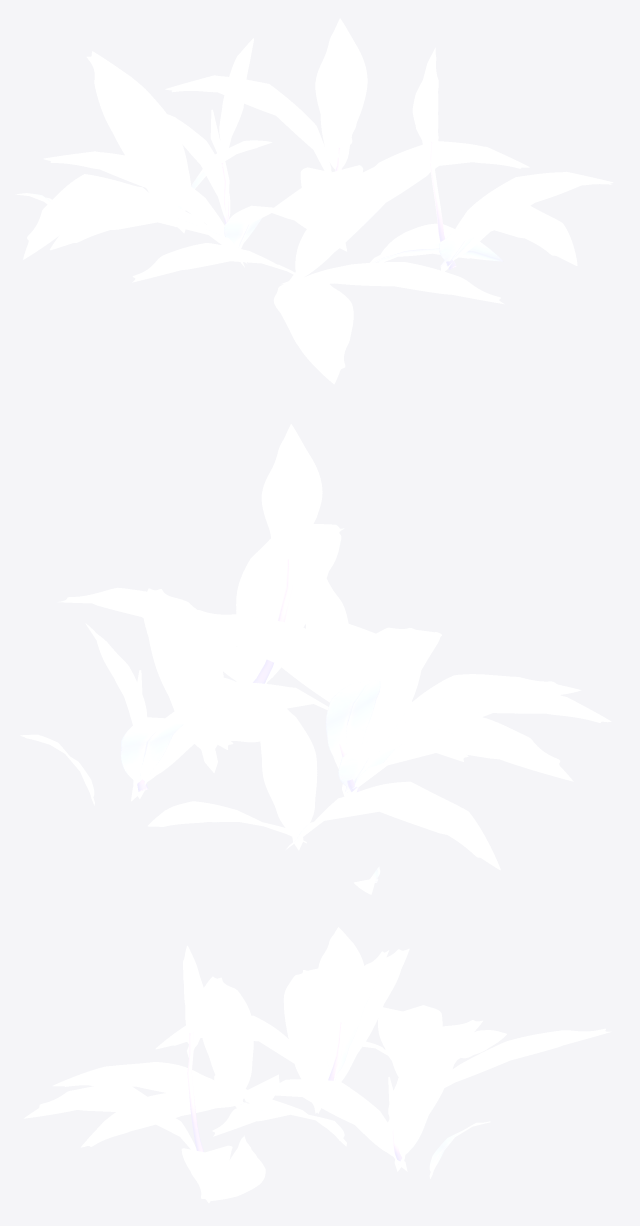
3 renders of one model, top to bottom at view 1: azimuth 30°, elevation 25°; view 2: azimuth 150°, elevation 25°; view 3: azimuth 270°, elevation 25°, orthographic. The views are drawn at different scales.
Visible parts, largest first — view 1: SM_PeaceLily_02_LOD0; view 2: SM_PeaceLily_02_LOD0; view 3: SM_PeaceLily_02_LOD0.
Part boxes in pixels (x1=…): SM_PeaceLily_02_LOD0: x1=15, y1=18, x2=613, y2=384; SM_PeaceLily_02_LOD0: x1=20, y1=424, x2=611, y2=894; SM_PeaceLily_02_LOD0: x1=24, y1=927, x2=611, y2=1202.
Size of the model in its own units: 1.07 by 0.4913 by 1.19.
1 material, 1 textured.
